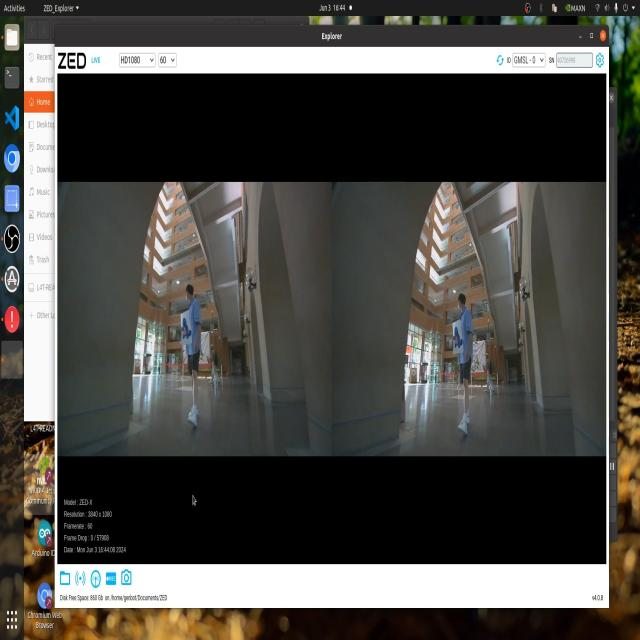blue: (180, 309, 190, 340), (453, 326, 463, 357)
